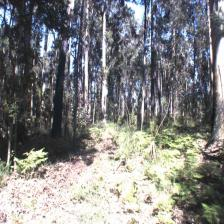trunktrack_idkeyframe: (51, 63, 66, 136)
